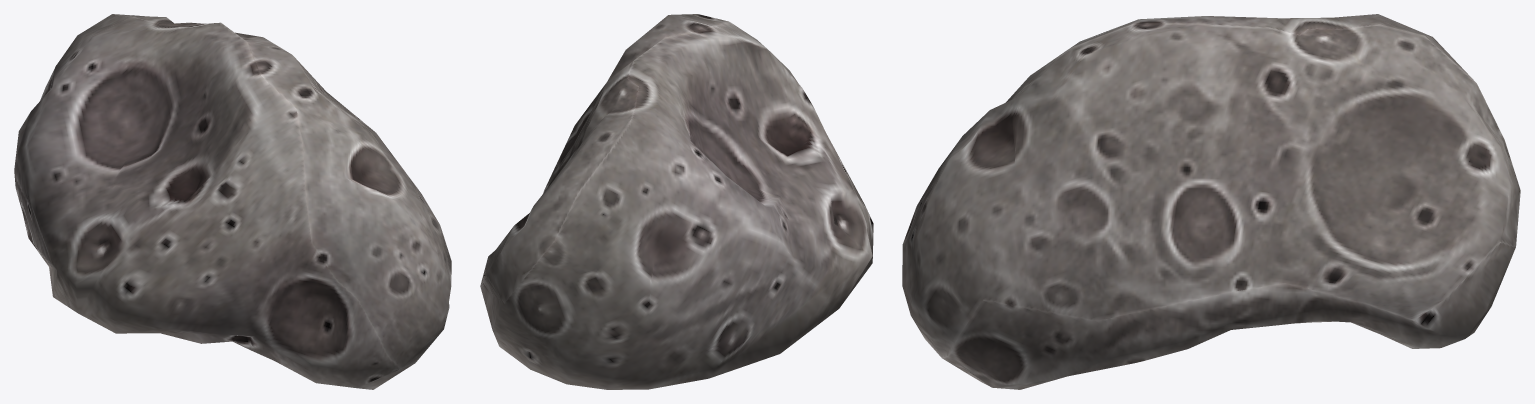
File: prop_asteroid_01.obj
3 views of the same model, side by side, from view 1: azimuth 30°, elevation 25°; view 2: azimuth 150°, elevation 25°; view 3: azimuth 270°, elevation 25° (orthographic). The views are drawn at different scales.
Visible parts, largest first — view 1: prop_asteroid_01_Untitled.001; view 2: prop_asteroid_01_Untitled.001; view 3: prop_asteroid_01_Untitled.001.
Part boxes in pixels (<box>): prop_asteroid_01_Untitled.001: <box>14,14,451,389</box>; prop_asteroid_01_Untitled.001: <box>480,14,873,389</box>; prop_asteroid_01_Untitled.001: <box>902,14,1520,389</box>.
Size of the model in its own units: 1.03 by 0.9103 by 1.5.
